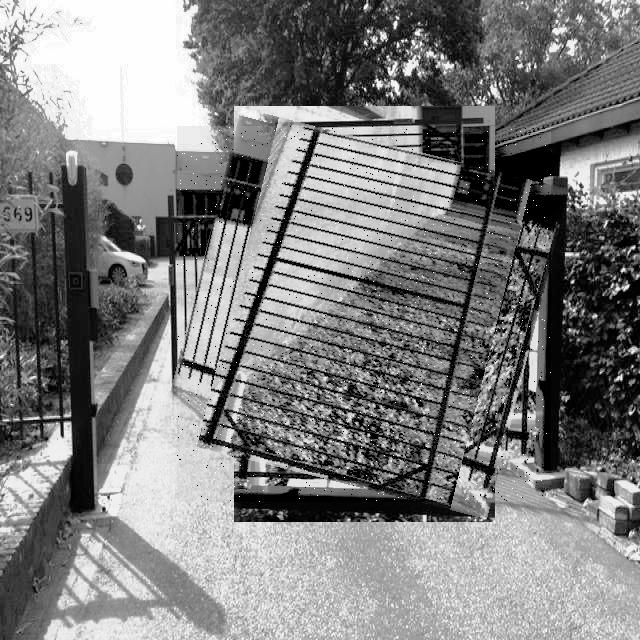fences: (177, 126, 551, 502)
